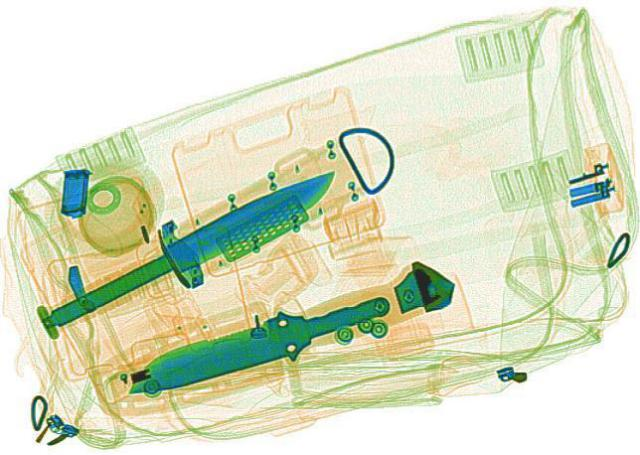Knife: (6, 157, 374, 348), (105, 275, 407, 413)
